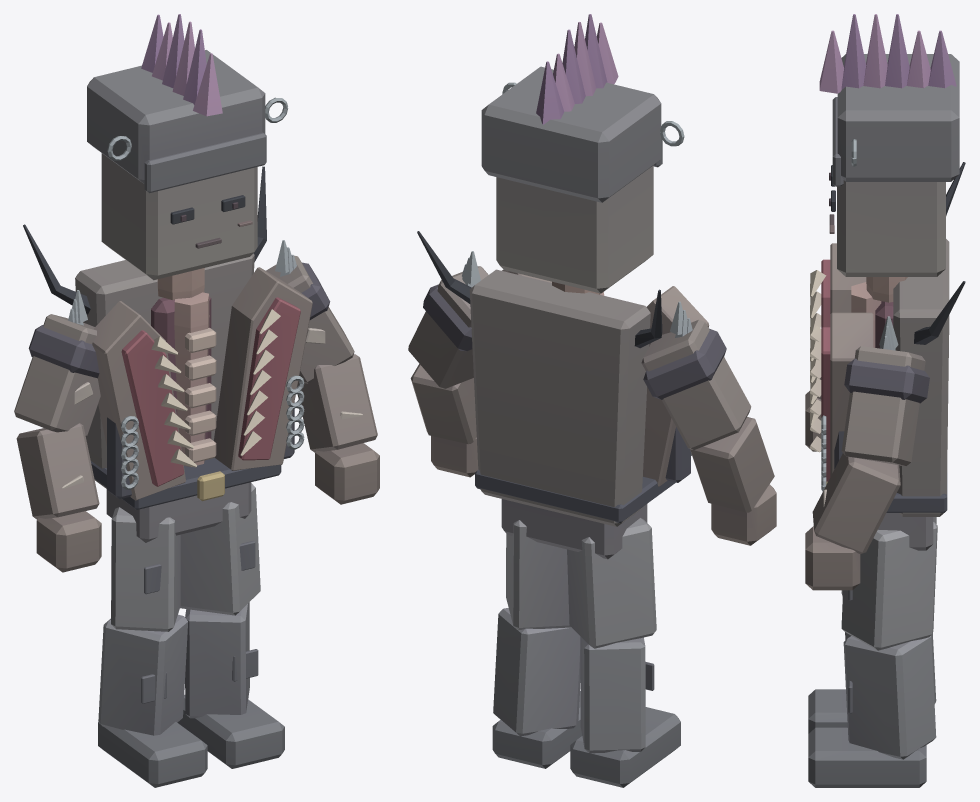
The model's file is AssimilatedAdventurerPunk.glb.
The picture shows the model from 3 angles, left to right: view 1: azimuth 30°, elevation 25°; view 2: azimuth 150°, elevation 25°; view 3: azimuth 270°, elevation 25°; orthographic projection. The views are drawn at different scales.
Parts seen in each view (by area): view 1: Body, Head, LegR, LegL, ArmR, ArmL, TendrilR, TendrilL; view 2: Body, Head, LegR, LegL, ArmR, ArmL, TendrilL, TendrilR; view 3: Head, LegL, Body, ArmL, LegR, TendrilL, ArmR.
Part boxes in pixels (x1=…): Body: x1=75, y1=253, x2=312, y2=542; Head: x1=87, y1=14, x2=288, y2=300; LegR: x1=98, y1=507, x2=207, y2=787; LegL: x1=177, y1=483, x2=284, y2=768; ArmR: x1=14, y1=290, x2=101, y2=572; ArmL: x1=266, y1=240, x2=379, y2=504; TendrilR: x1=23, y1=224, x2=90, y2=314; TendrilL: x1=253, y1=166, x2=266, y2=262; Body: x1=469, y1=269, x2=709, y2=559; Head: x1=481, y1=14, x2=684, y2=294; LegR: x1=567, y1=518, x2=680, y2=787; LegL: x1=492, y1=520, x2=582, y2=768; ArmR: x1=641, y1=301, x2=776, y2=545; ArmL: x1=408, y1=251, x2=488, y2=477; TendrilL: x1=417, y1=231, x2=471, y2=303; TendrilR: x1=634, y1=289, x2=662, y2=348; Head: x1=819, y1=14, x2=959, y2=302; LegL: x1=808, y1=522, x2=937, y2=787; Body: x1=810, y1=239, x2=949, y2=550; ArmL: x1=805, y1=316, x2=929, y2=590; LegR: x1=808, y1=517, x2=936, y2=733; TendrilL: x1=914, y1=281, x2=965, y2=344; ArmR: x1=805, y1=377, x2=821, y2=451.
Size of the model in its own units: 3.24 by 6.86 by 1.34.
